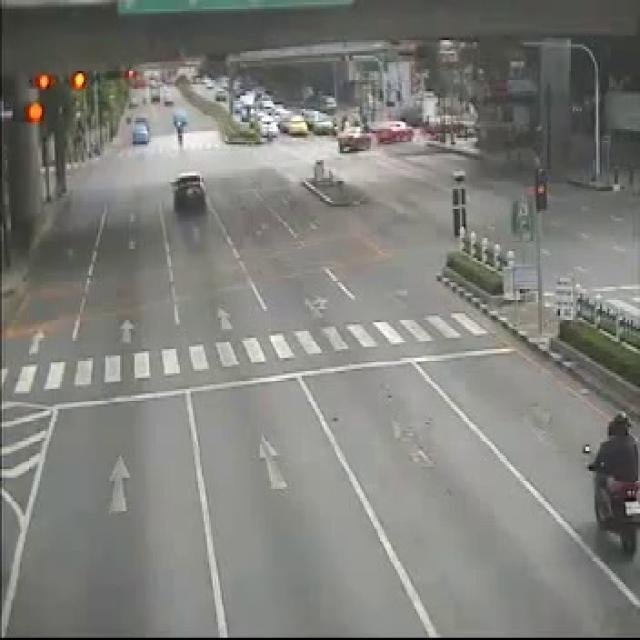car: (170, 171, 204, 211)
motobike: (586, 412, 638, 553)
stop_line: (52, 344, 518, 411)
yellow_light: (531, 165, 550, 209), (21, 96, 46, 122), (70, 72, 89, 92)
